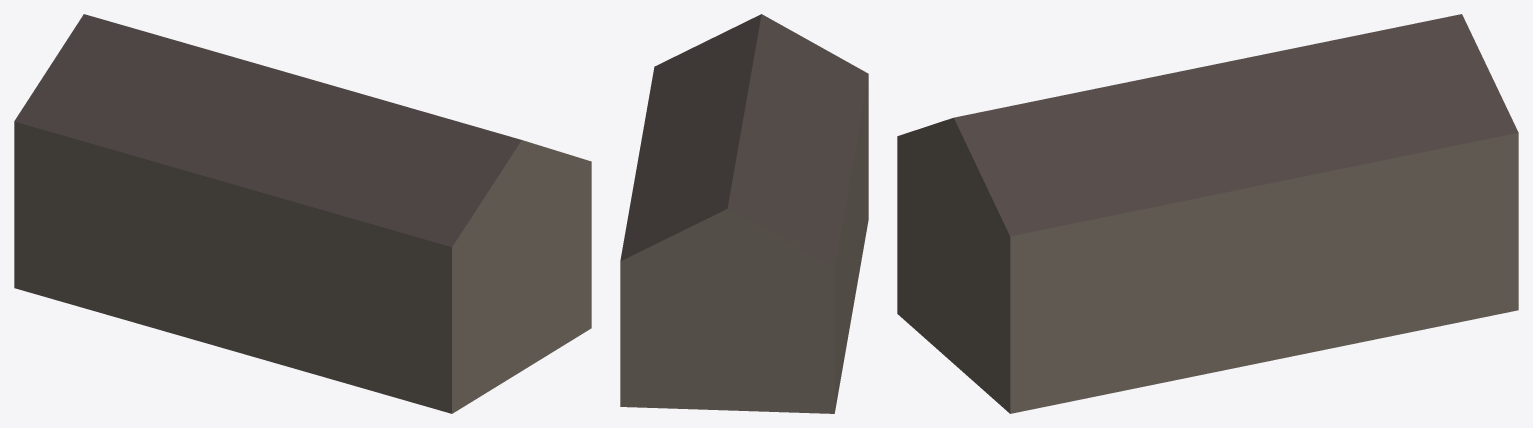
The picture shows the model from 3 angles, left to right: view 1: azimuth 30°, elevation 25°; view 2: azimuth 150°, elevation 25°; view 3: azimuth 270°, elevation 25°; orthographic projection. The views are drawn at different scales.
Parts seen in each view (by area): view 1: HP-w369317500; view 2: HP-w369317500; view 3: HP-w369317500.
Boxes of the visible parts, <box> form: HP-w369317500: <box>14,14,591,413</box>; HP-w369317500: <box>620,14,868,413</box>; HP-w369317500: <box>897,14,1518,413</box>.
Size of the model in its own units: 14.78 by 8.32 by 19.04.
